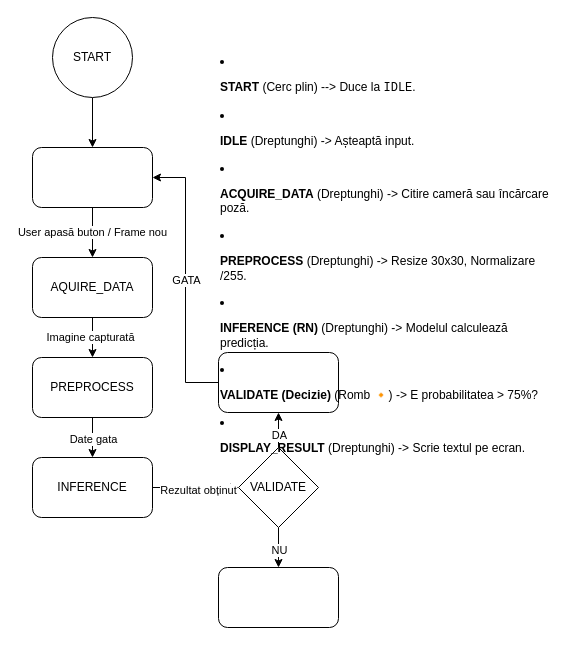
This 575x645 diagram has some shape labels left out. The box of each missing label's shape, as (x1, y1, x2, y2) in pixels:
DISPLAY_RESULT: (218, 352, 338, 412)
IDLE: (32, 146, 152, 208)
IGNORE_UNKNOWN: (218, 566, 338, 628)
